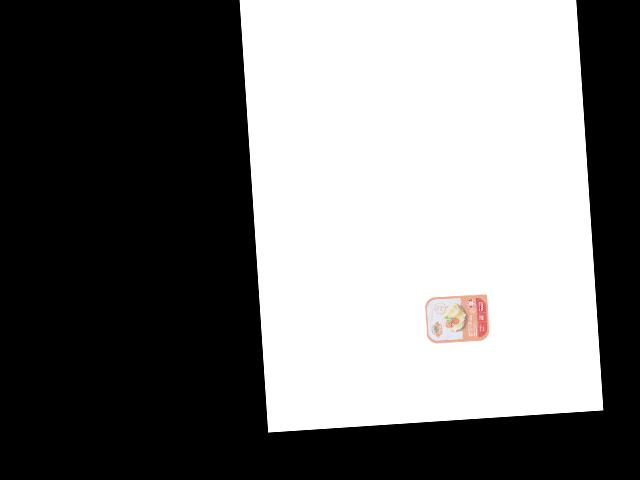cheese: (423, 292, 494, 347)
